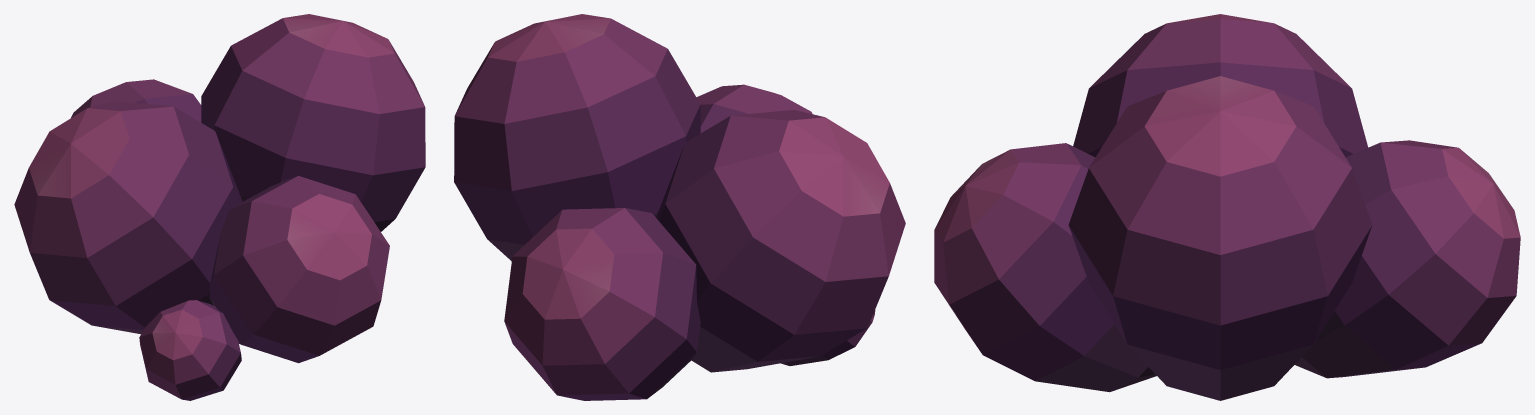
File: coral_spheres_pink_1.fbx
The picture shows the model from 3 angles, left to right: view 1: azimuth 30°, elevation 25°; view 2: azimuth 150°, elevation 25°; view 3: azimuth 270°, elevation 25°; orthographic projection. The views are drawn at different scales.
Visible parts, largest first — view 1: coral_spheres_pink_1; view 2: coral_spheres_pink_1; view 3: coral_spheres_pink_1.
Part boxes in pixels (bbox=[...]): coral_spheres_pink_1: bbox=[14, 14, 425, 400]; coral_spheres_pink_1: bbox=[454, 14, 905, 400]; coral_spheres_pink_1: bbox=[934, 14, 1520, 400].
Size of the model in its own units: 0.5048 by 0.3734 by 0.5238.
